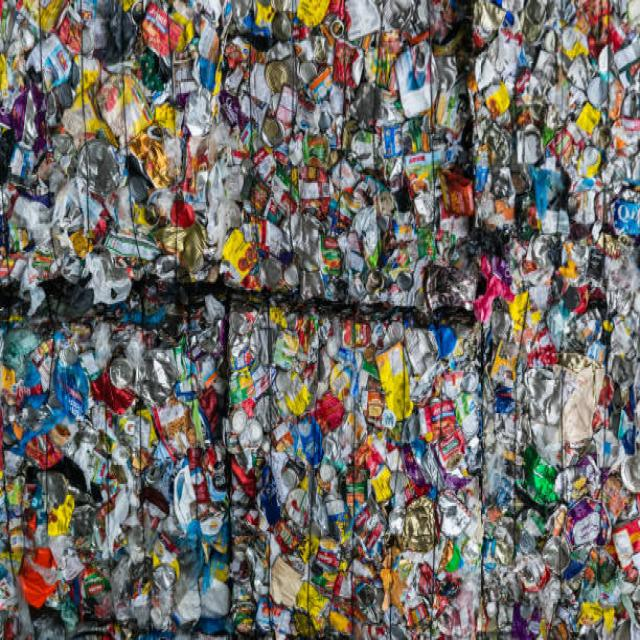trash: (23, 16, 617, 594)
